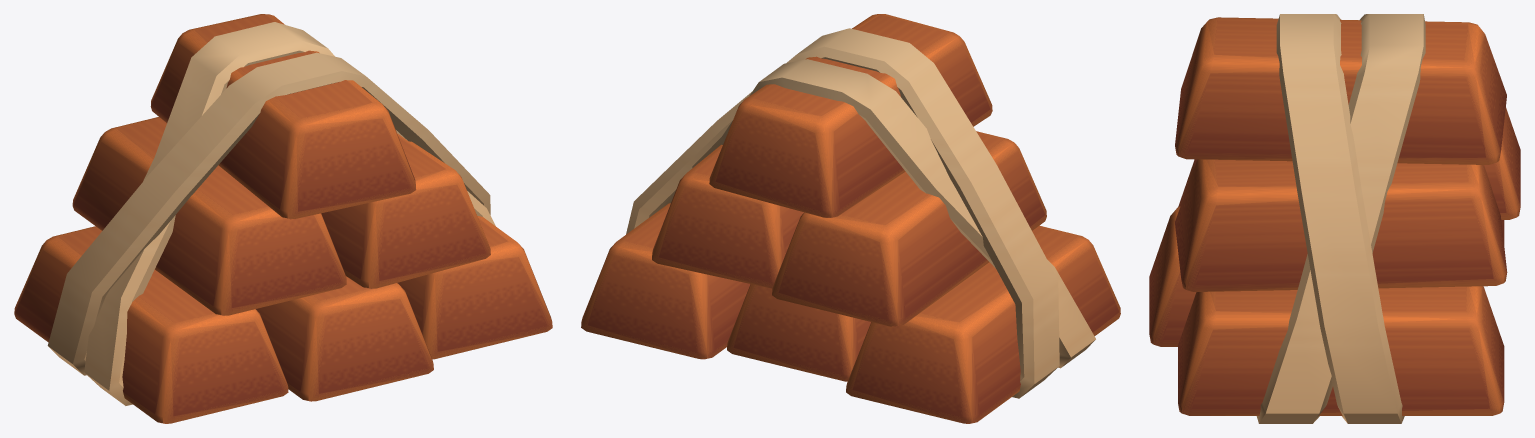
Rendered from Copper_Bars.gltf.
The picture shows the model from 3 angles, left to right: view 1: azimuth 30°, elevation 25°; view 2: azimuth 150°, elevation 25°; view 3: azimuth 270°, elevation 25°; orthographic projection. The views are drawn at different scales.
Visible parts, largest first — view 1: Copper_Bars; view 2: Copper_Bars; view 3: Copper_Bars.
Part boxes in pixels (<box>): Copper_Bars: <box>14,14,552,423</box>; Copper_Bars: <box>581,14,1120,423</box>; Copper_Bars: <box>1149,14,1520,423</box>.
Bounding box in the file's own units: 1.27 × 0.7897 × 0.9106.
1 material, 1 textured.
